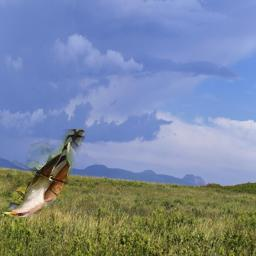Cuckoo: (2, 129, 85, 217)
